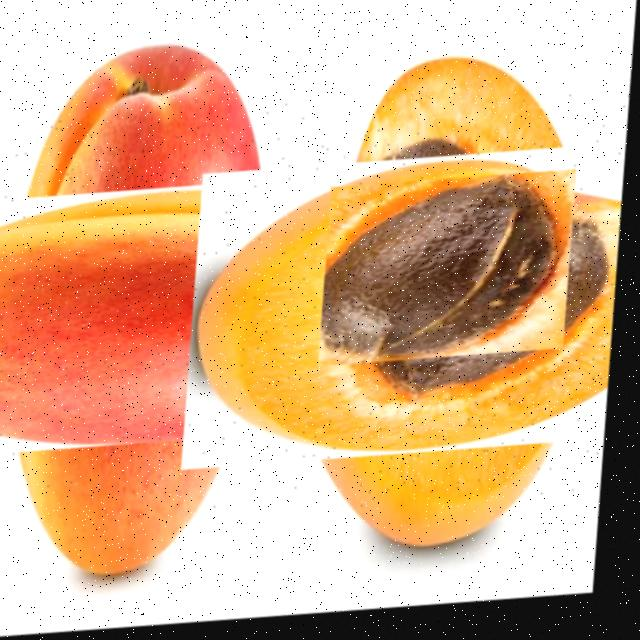Apricot: (237, 101, 632, 521), (0, 104, 352, 530)
seed: (326, 183, 575, 364)
